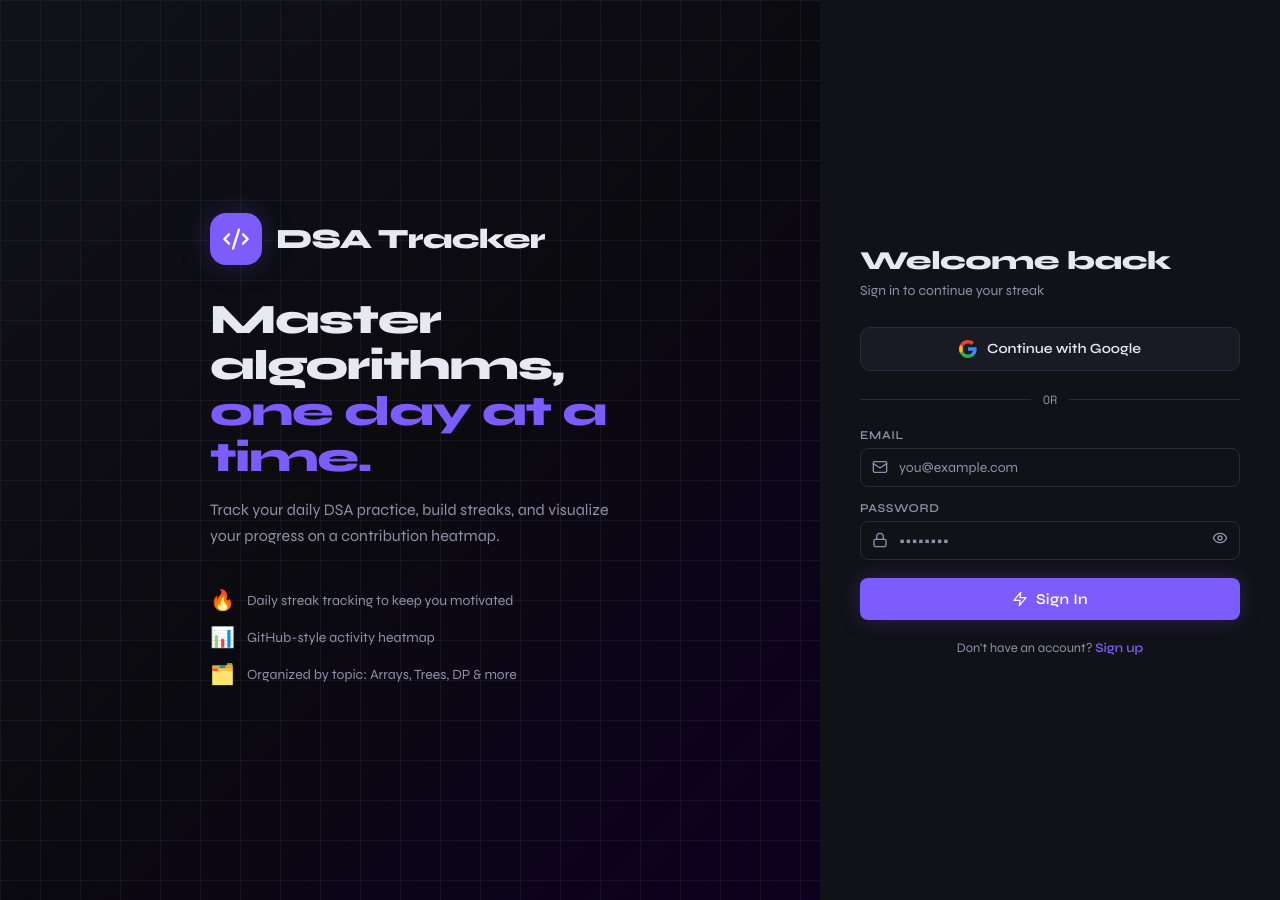
Test case: LoginPage › switches to signup
This screenshot has width=1280, height=900.
Click the button "Sign up". click: coordinates (1119, 648)
box: [1095,640,1143,656]
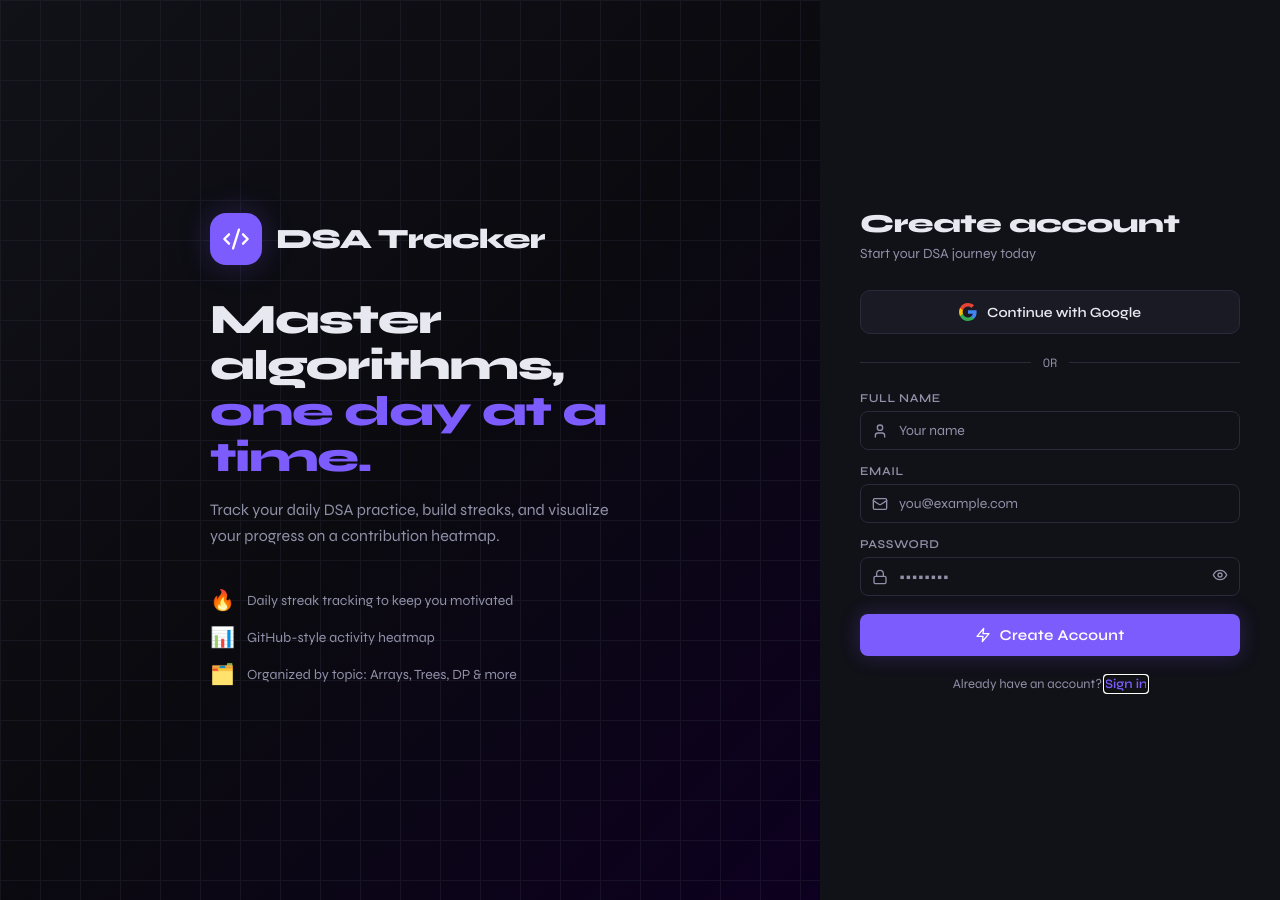
expect the heading "Create account" is shown: met, box [860,208,1179,239]
